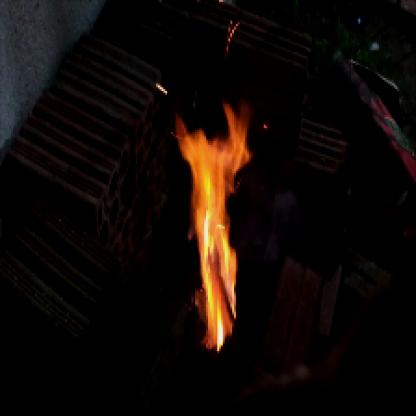Fire: (165, 93, 275, 356)
